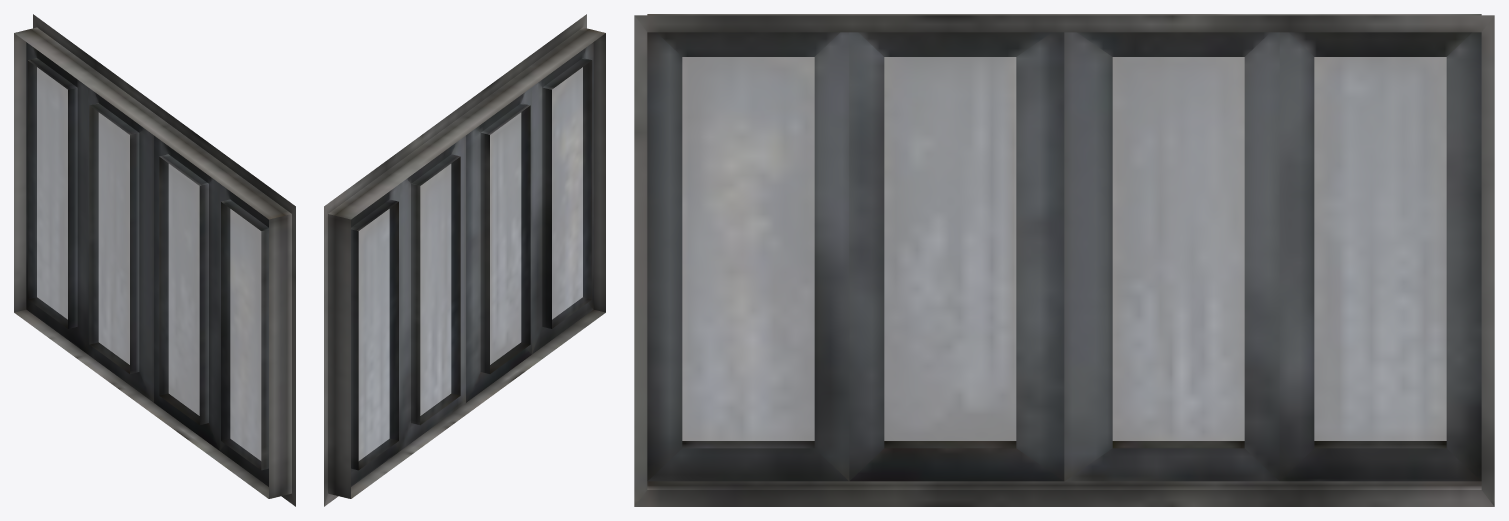
File: DoubleWindow.FBX
The picture shows the model from 3 angles, left to right: view 1: azimuth 30°, elevation 25°; view 2: azimuth 150°, elevation 25°; view 3: azimuth 270°, elevation 25°; orthographic projection. The views are drawn at different scales.
Parts seen in each view (by area): view 1: DoubleWindow; view 2: DoubleWindow; view 3: DoubleWindow.
Boxes of the visible parts, x1,y1,x2,y2 form: DoubleWindow: (14, 14, 295, 506); DoubleWindow: (324, 14, 605, 506); DoubleWindow: (634, 14, 1494, 506).
Bounding box in the file's own units: 13.82 × 173 × 274.
2 materials, 2 textured.
